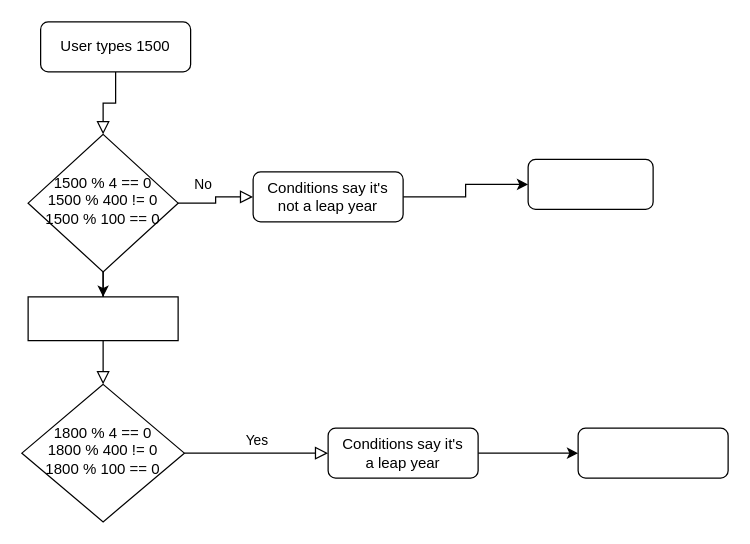
Some shapes in this 750 by 544 pixel diagram are drawn without their labels. The centre of each missing label's shape, as x and y in pixels:
"Console prints: nay" belongs at (x=590, y=183).
"Console prints: yay" belongs at (x=652, y=452).
"User types 1800" belongs at (x=102, y=318).
